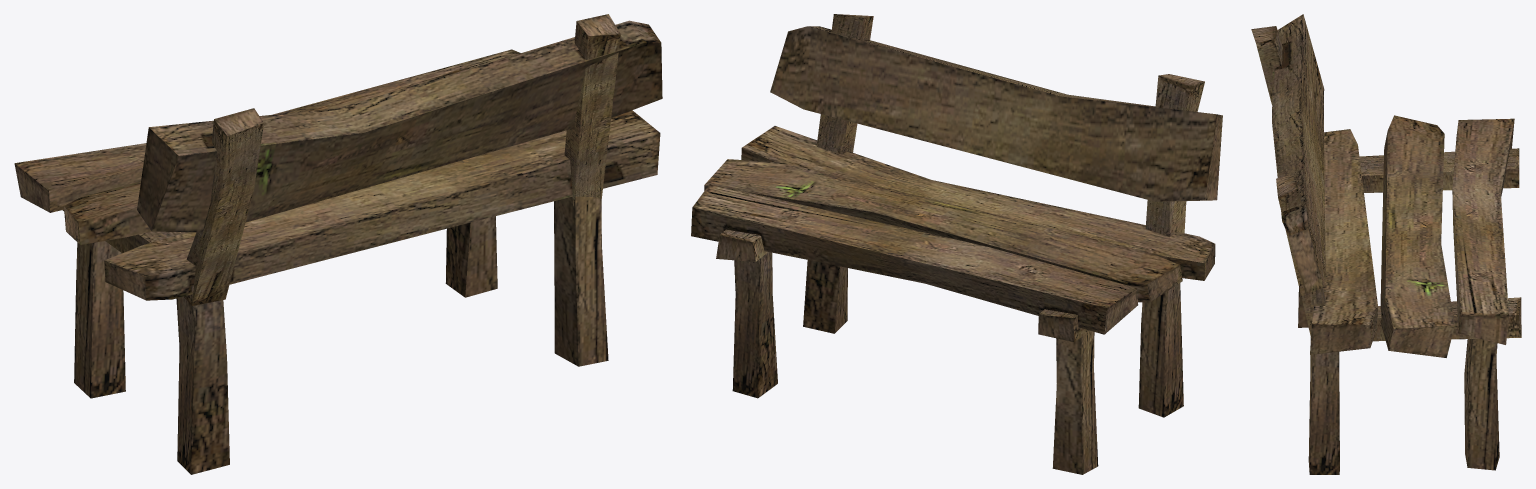
The picture shows the model from 3 angles, left to right: view 1: azimuth 30°, elevation 25°; view 2: azimuth 150°, elevation 25°; view 3: azimuth 270°, elevation 25°; orthographic projection. The views are drawn at different scales.
Parts seen in each view (by area): view 1: LV_Common_Object_A_AssemblyWoodChair04_SM_CNH; view 2: LV_Common_Object_A_AssemblyWoodChair04_SM_CNH; view 3: LV_Common_Object_A_AssemblyWoodChair04_SM_CNH.
Boxes of the visible parts, box(x1,y1,x2,y2) form: LV_Common_Object_A_AssemblyWoodChair04_SM_CNH: box(14, 14, 662, 474); LV_Common_Object_A_AssemblyWoodChair04_SM_CNH: box(691, 14, 1222, 474); LV_Common_Object_A_AssemblyWoodChair04_SM_CNH: box(1251, 14, 1521, 474).
Size of the model in its own units: 0.3394 by 0.2227 by 0.185.
